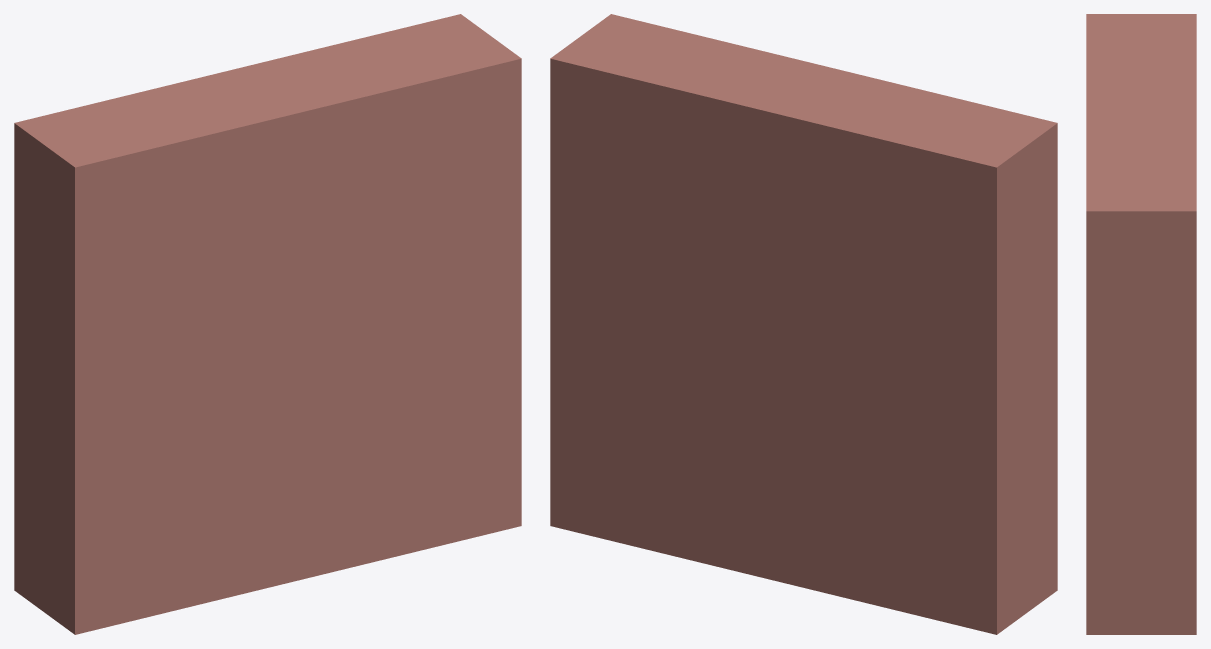
File: fixed-g-bed2-red_mirror_cabinet-c75a512a7a.glb
The picture shows the model from 3 angles, left to right: view 1: azimuth 30°, elevation 25°; view 2: azimuth 150°, elevation 25°; view 3: azimuth 270°, elevation 25°; orthographic projection. The views are drawn at different scales.
Parts seen in each view (by area): view 1: frame; view 2: frame; view 3: frame.
Boxes of the visible parts, x1,y1,x2,y2 form: frame: [14, 14, 521, 634]; frame: [550, 14, 1057, 634]; frame: [1086, 14, 1196, 634].
Size of the model in its own units: 0.55 by 0.55 by 0.13.
